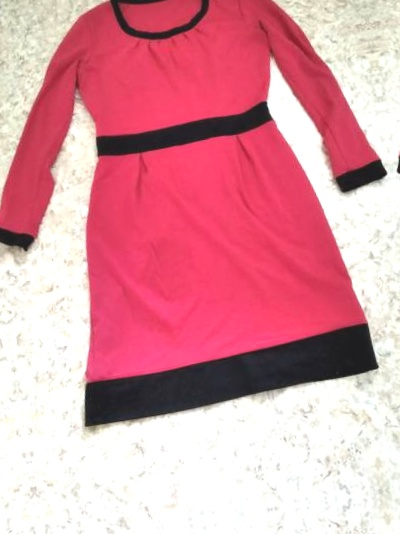Dress: (0, 0, 400, 459), (357, 0, 400, 394), (0, 8, 19, 525)
